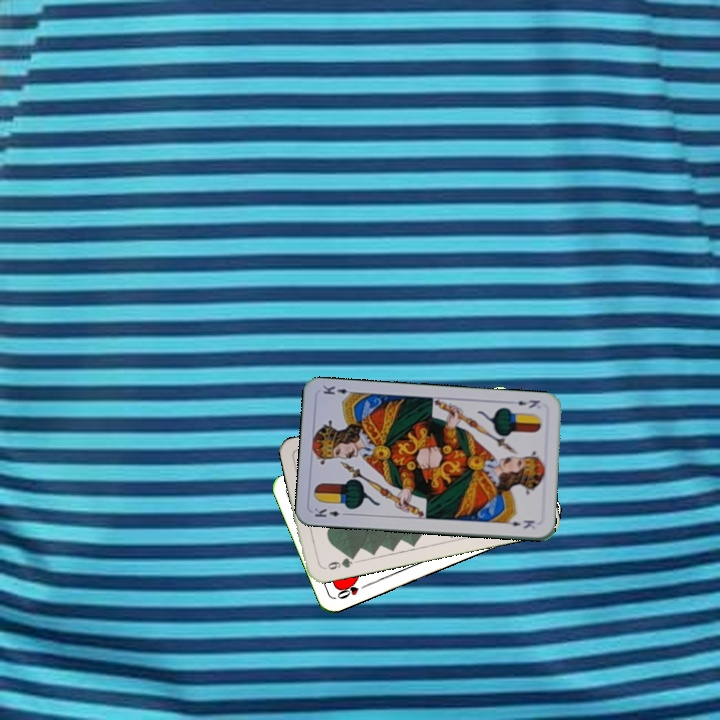EK: (310, 504, 351, 520), (513, 396, 543, 410)
G9: (319, 551, 358, 572)
HO: (333, 579, 371, 602)
